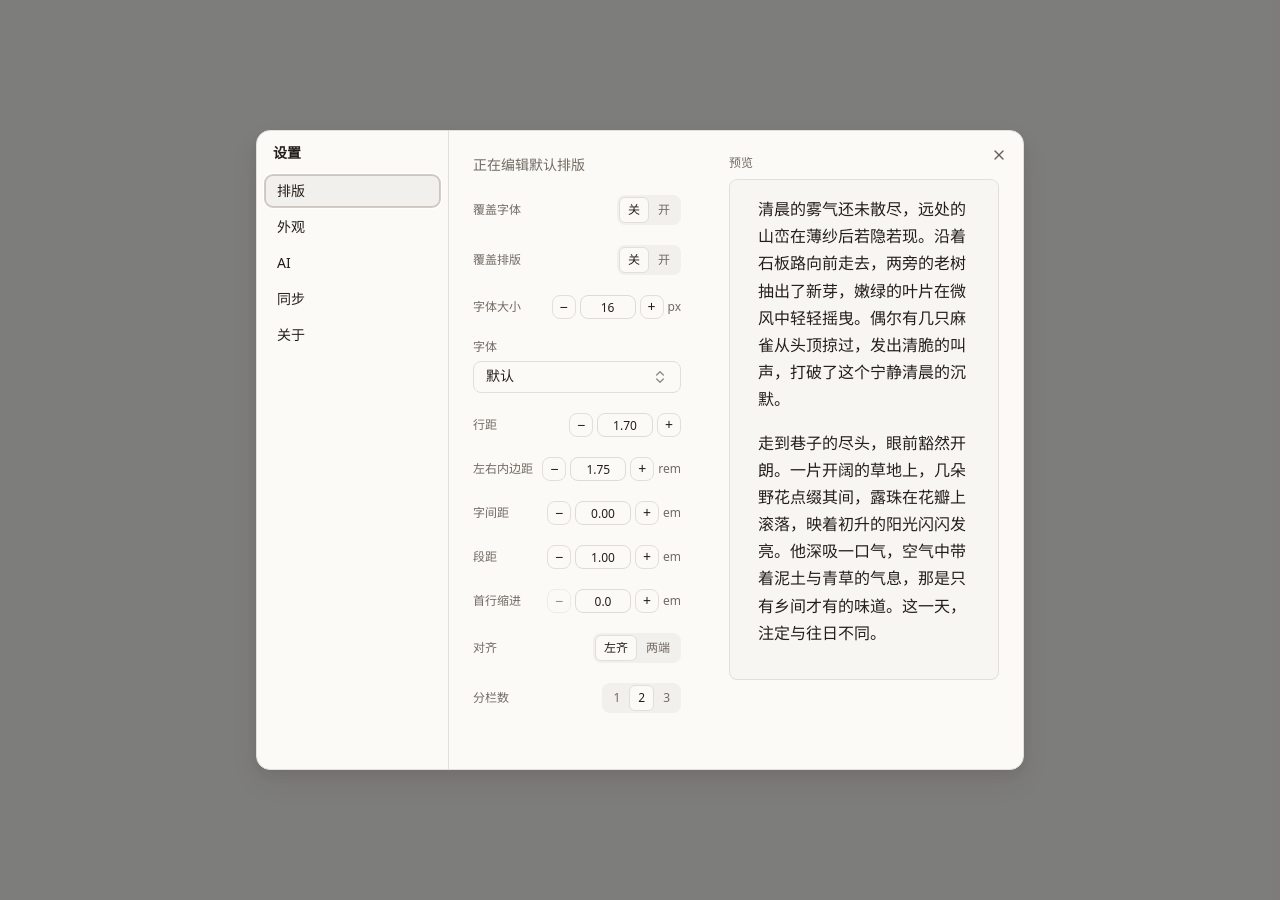
Test: SettingsDialog › shows chrome font and size under appearance and applies them live
The width and height of the screenshot is (1280, 900).
Click the button "外观" at (352, 227), box x1=265 y1=211 x2=440 y2=243
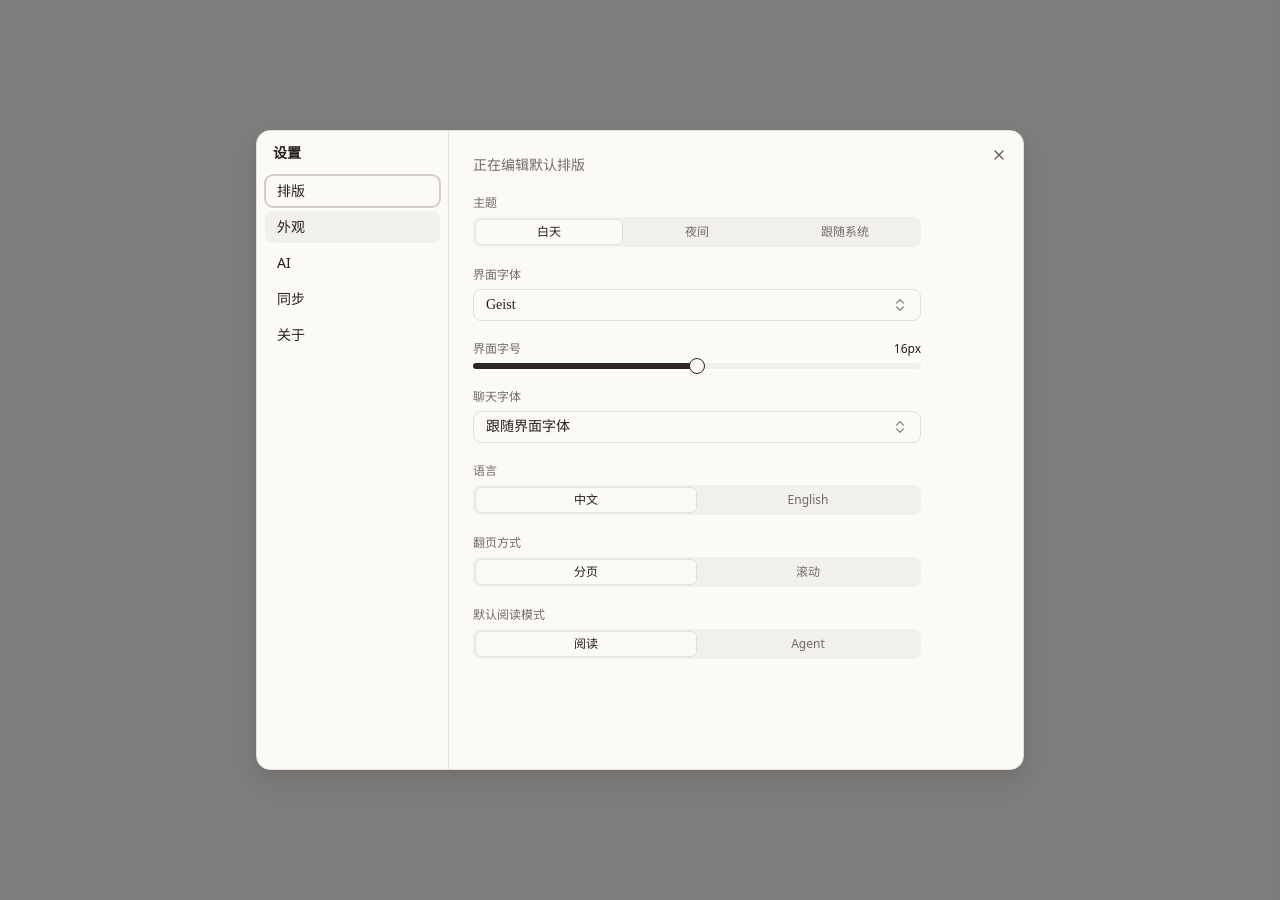
Check: the text "界面字体" is shown, box x1=473 y1=267 x2=521 y2=283
Check: the text "界面字号" is shown, box x1=473 y1=341 x2=521 y2=357
Check: the dropdown named "界面字体" reads "Geist"
Click the dropdown named "界面字体" at (501, 304), box x1=473 y1=289 x2=921 y2=321
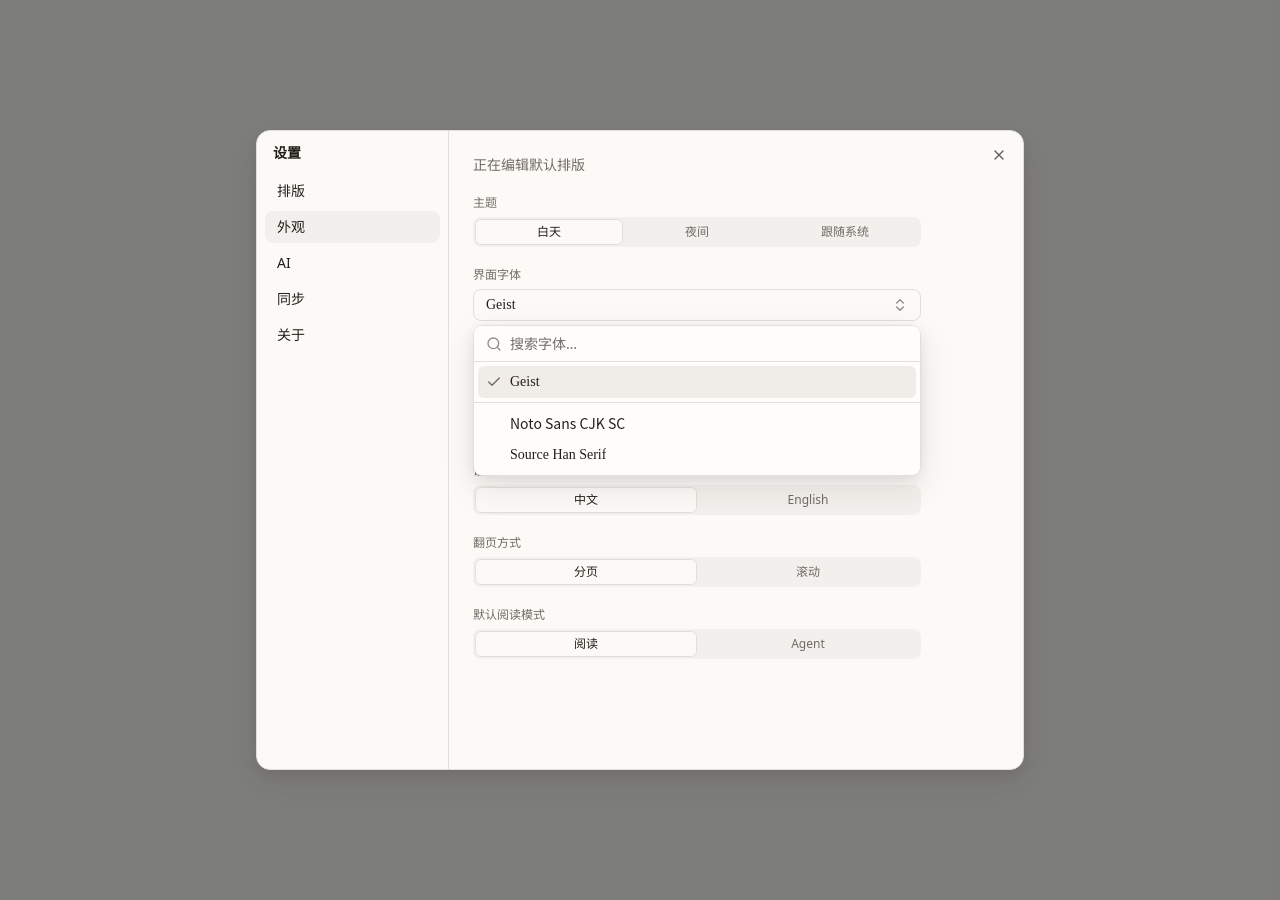
Click the option "Noto Sans CJK SC" at (568, 423), box x1=510 y1=413 x2=625 y2=433
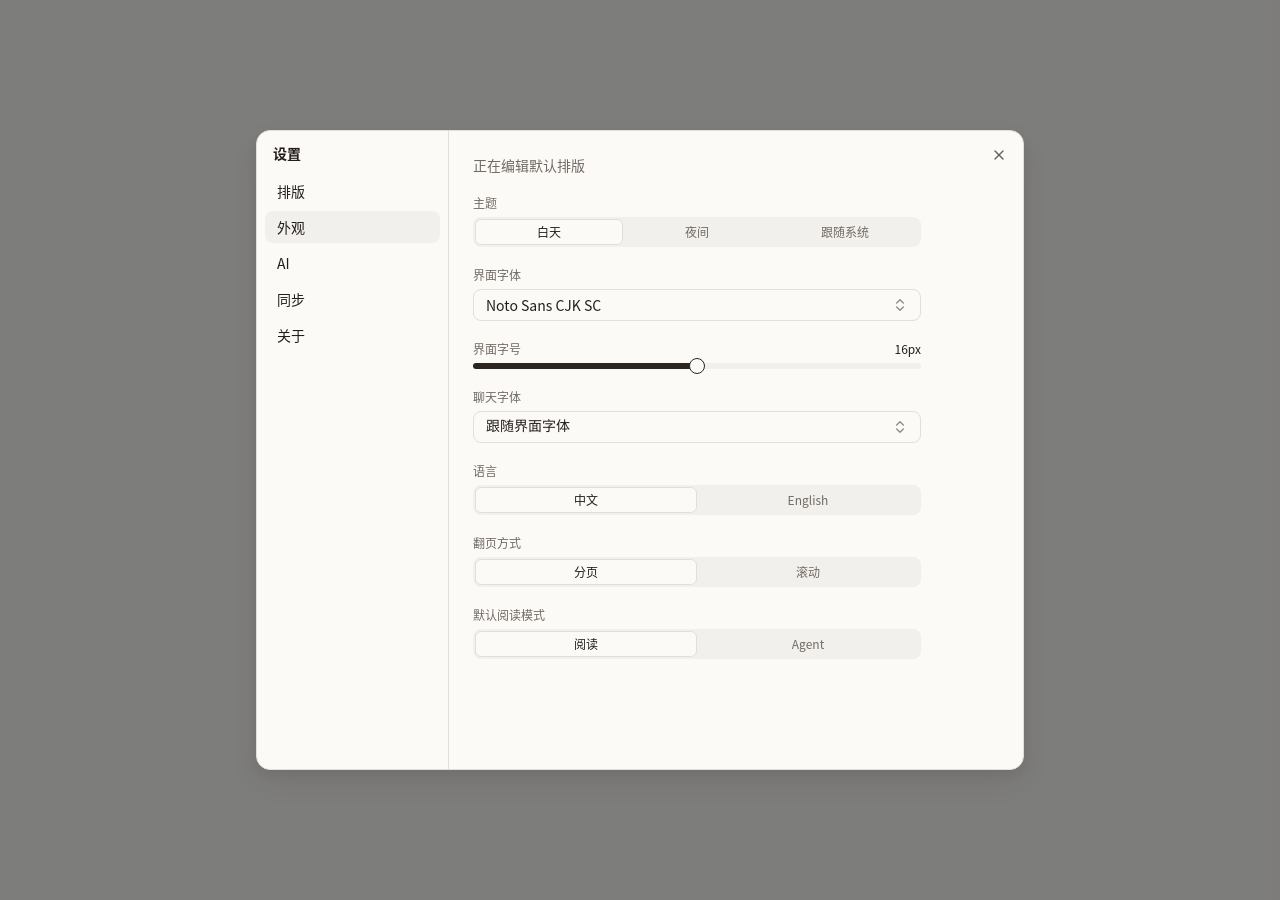
Check: the text "Noto Sans CJK SC" is shown, box x1=486 y1=295 x2=601 y2=315
Press ArrowRight in the slider named "界面字号", box x1=689 y1=358 x2=705 y2=374
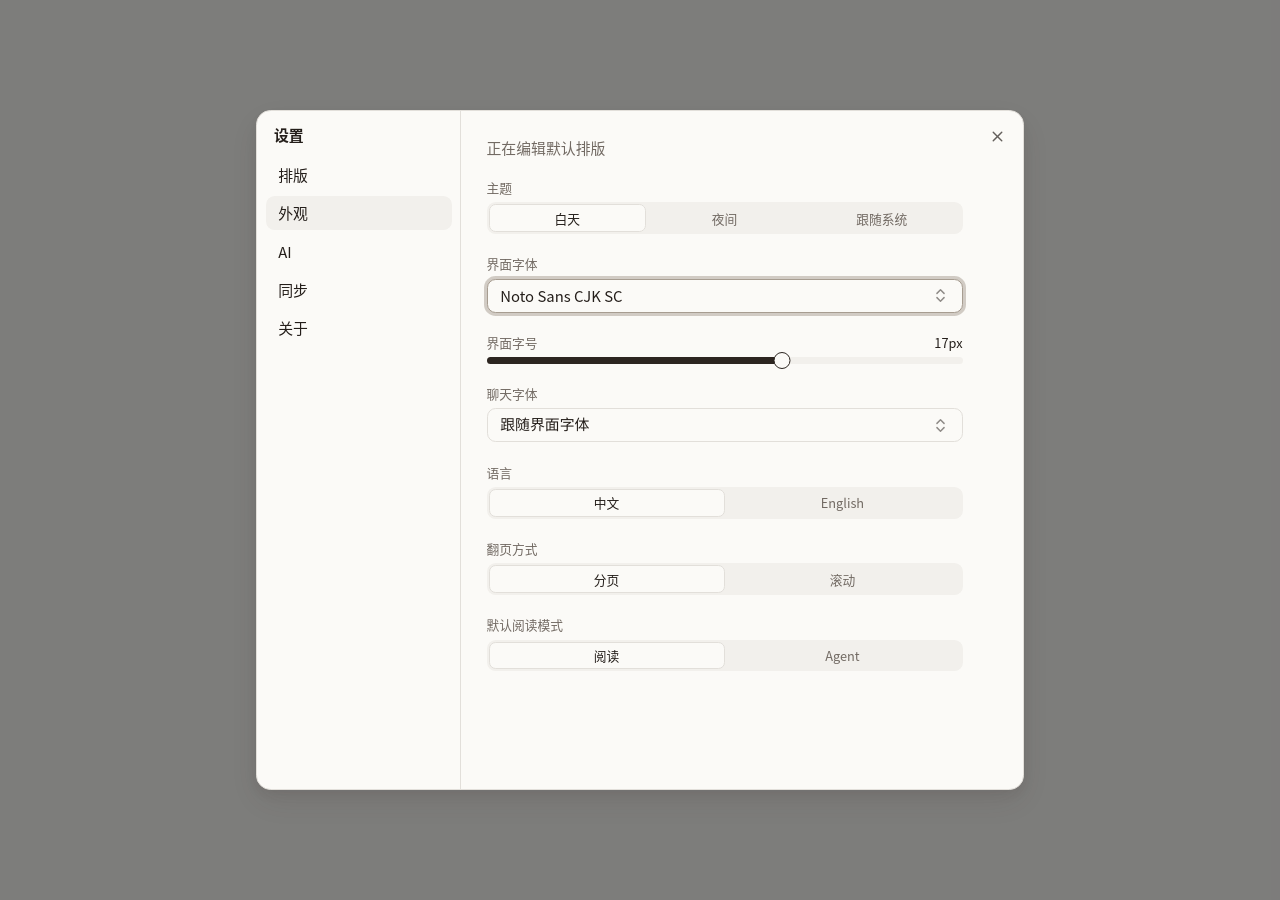
Check: the text "16px" reads "17px", box x1=934 y1=333 x2=962 y2=352
Check: the text "17px" is shown, box x1=934 y1=334 x2=962 y2=351
